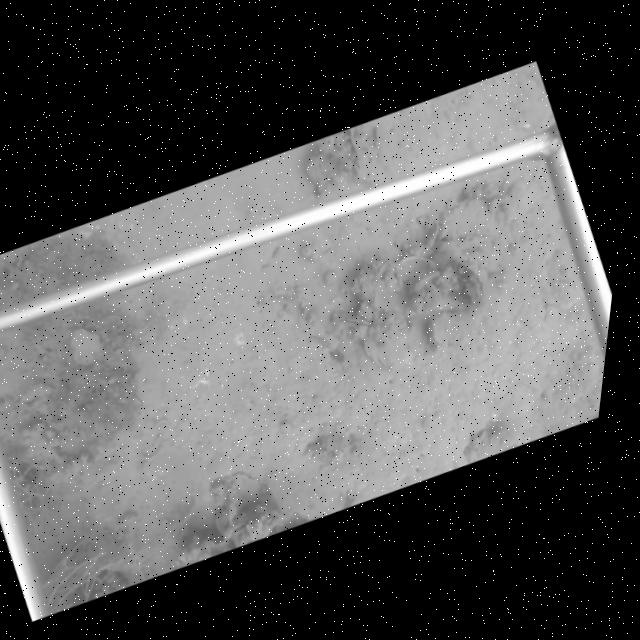Oyster-Closed: (424, 307, 481, 351), (452, 258, 489, 304), (330, 312, 372, 329)
Oyster-Indeterminate: (438, 197, 504, 241), (66, 326, 108, 366), (227, 469, 262, 512)
